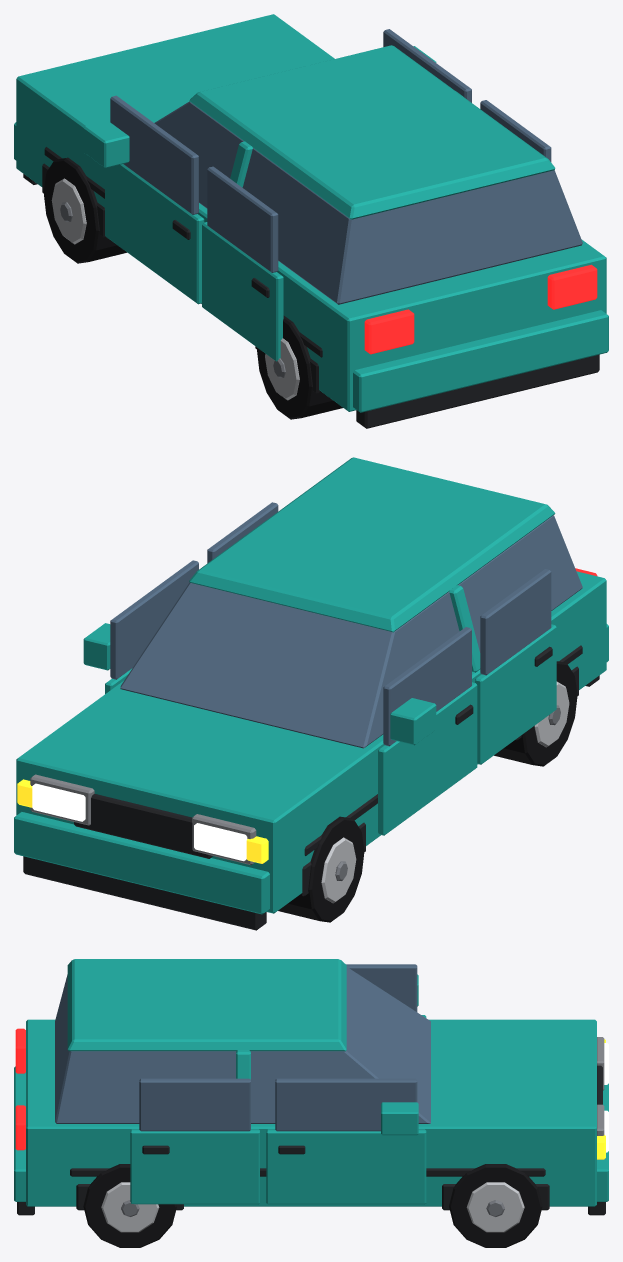
Rendered from car_hatchback.glb.
3 renders of one model, top to bottom at view 1: azimuth 30°, elevation 25°; view 2: azimuth 150°, elevation 25°; view 3: azimuth 270°, elevation 25°, orthographic. The views are drawn at different scales.
Visible parts, largest first — view 1: car_body, car_door_FL, car_door_RL, car_door_FR, car_door_RR; view 2: car_body, car_door_FL, car_door_RL, car_door_FR, car_door_RR; view 3: car_body, car_door_FR, car_door_RR, car_door_FL.
Part boxes in pixels (bbox=[...]): car_body: bbox=[14, 14, 608, 428]; car_door_FL: bbox=[83, 95, 204, 304]; car_door_RL: bbox=[202, 166, 283, 361]; car_door_FR: bbox=[383, 29, 471, 102]; car_door_RR: bbox=[480, 100, 551, 162]; car_body: bbox=[14, 457, 608, 930]; car_door_FL: bbox=[378, 627, 477, 835]; car_door_RL: bbox=[475, 569, 556, 764]; car_door_FR: bbox=[83, 560, 198, 693]; car_door_RR: bbox=[207, 502, 278, 563]; car_body: bbox=[14, 959, 608, 1247]; car_door_FR: bbox=[266, 1078, 426, 1204]; car_door_RR: bbox=[130, 1078, 259, 1204]; car_door_FL: bbox=[346, 964, 426, 1017].
Bounding box in the file's own units: 2.18 × 1.41 × 3.94.
